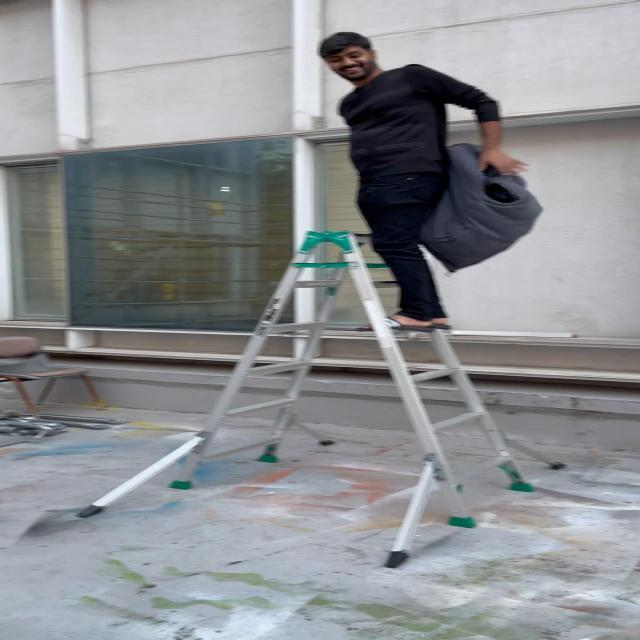boots: (70, 226, 572, 574)
vest: (280, 26, 560, 334)
